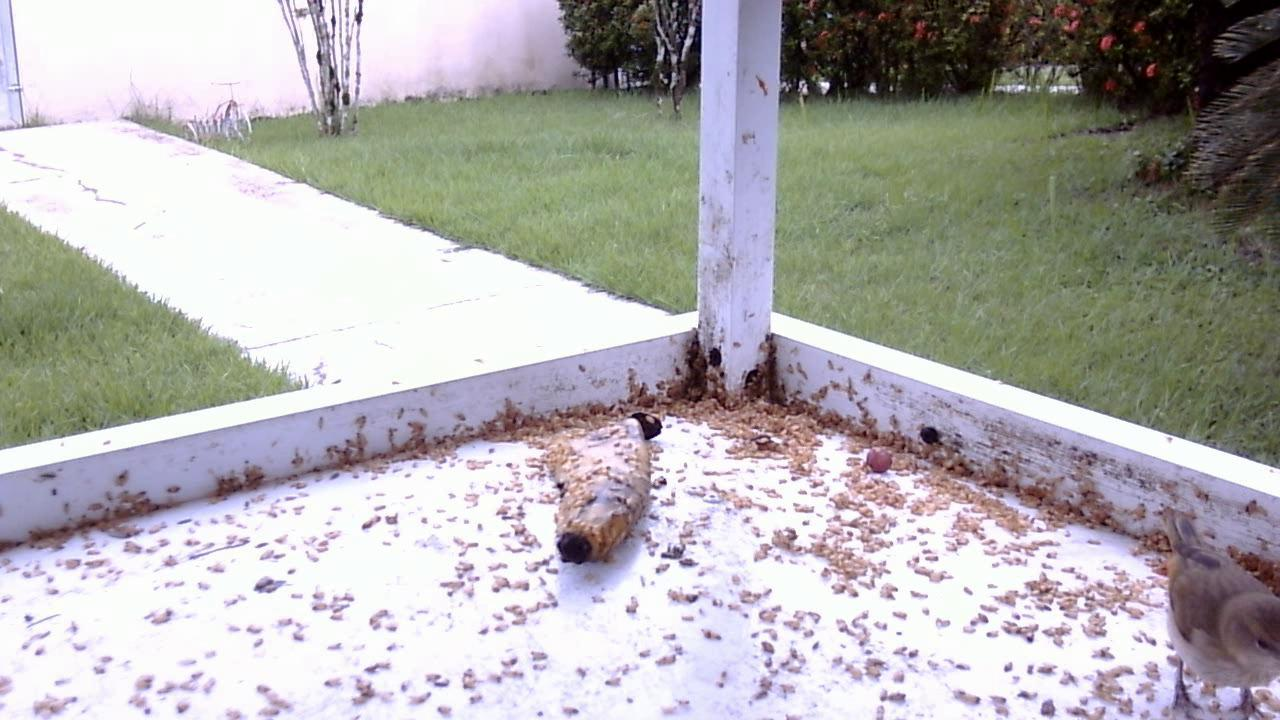canario_do_amazonas: (1139, 507, 1276, 720)
